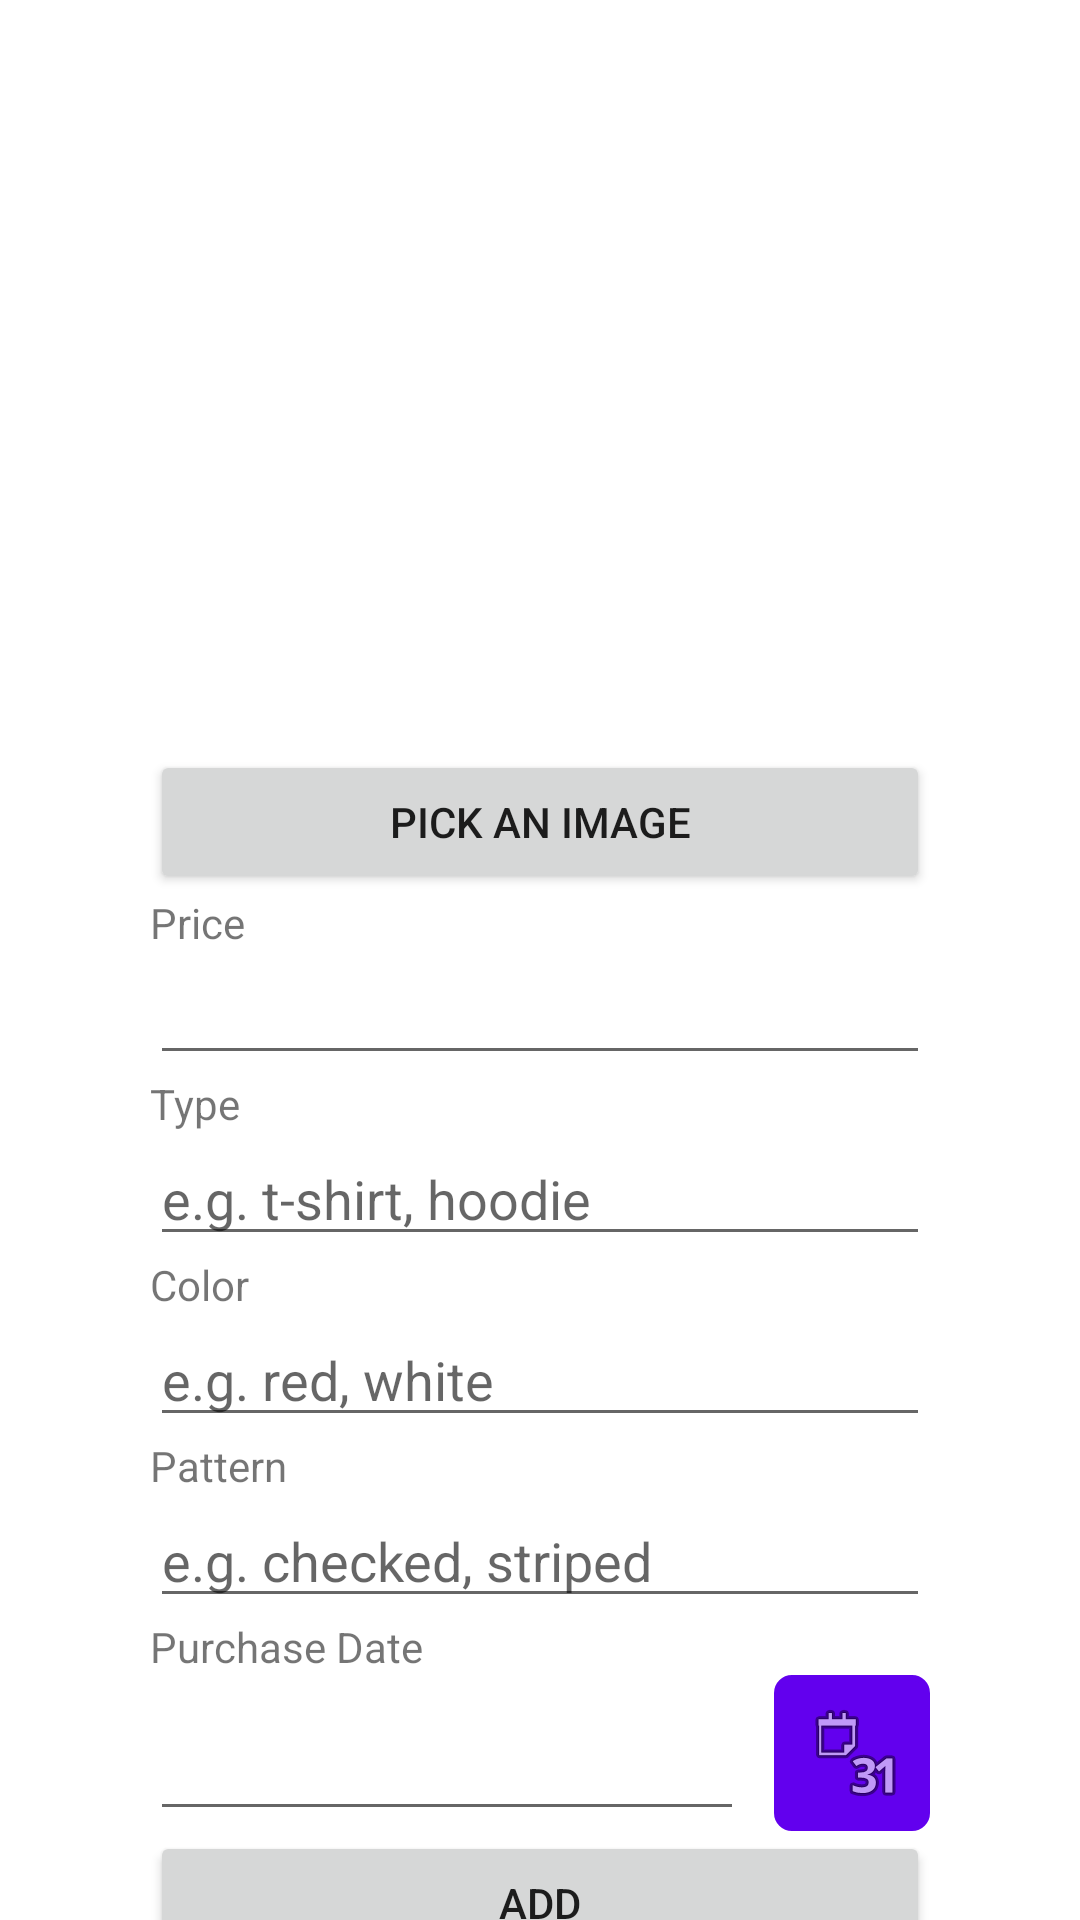

Icon bounding boxes for this 1080×1920 phone screenshot, format (x1, y1, x2, y2):
month: (774, 1675, 930, 1831)
